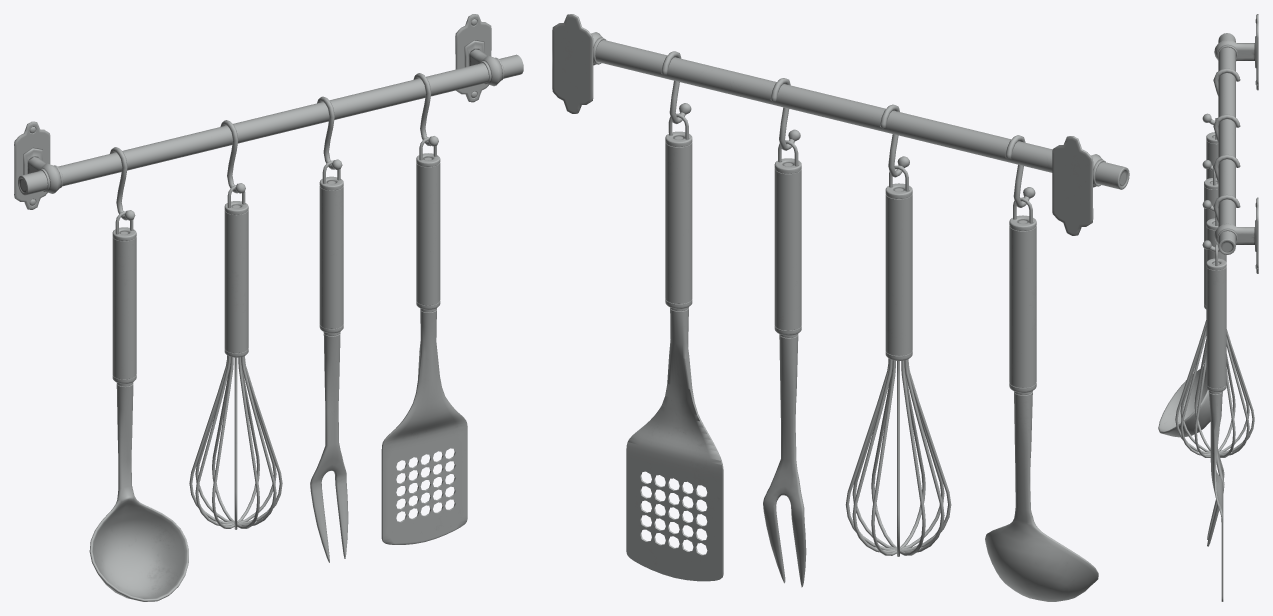
Rendered from Kitchen Accessories.fbx.
3 renders of one model, left to right at view 1: azimuth 30°, elevation 25°; view 2: azimuth 150°, elevation 25°; view 3: azimuth 270°, elevation 25°, orthographic. The views are drawn at different scales.
Visible parts, largest first — view 1: Kitchen_Accessories_1; view 2: Kitchen_Accessories_1; view 3: Kitchen_Accessories_1.
Boxes of the visible parts, left/top/right/bottom form: Kitchen_Accessories_1: left=14, top=14, right=523, bottom=601; Kitchen_Accessories_1: left=552, top=14, right=1129, bottom=601; Kitchen_Accessories_1: left=1158, top=14, right=1258, bottom=601.
Bounding box in the file's own units: 34.96 × 33.35 × 7.18.
